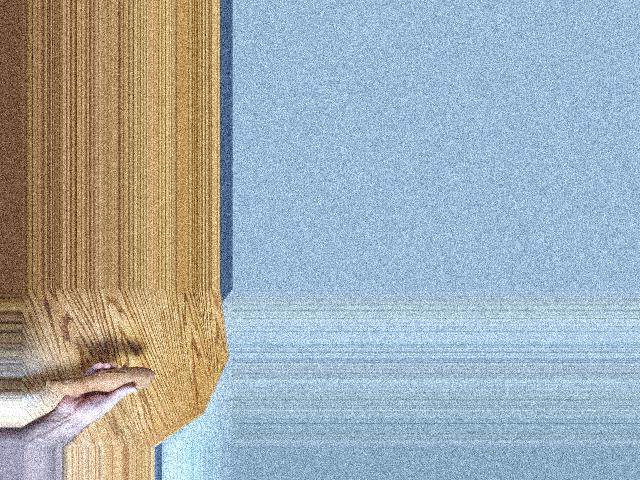sweet_potato: (40, 363, 157, 397)
